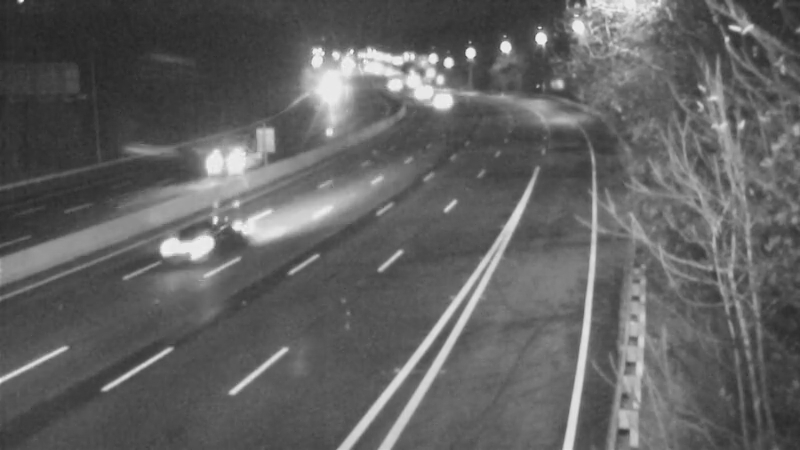vehicle: (150, 206, 230, 286), (185, 122, 265, 202), (387, 58, 437, 108), (365, 58, 415, 108), (397, 66, 447, 116), (420, 79, 470, 129)
